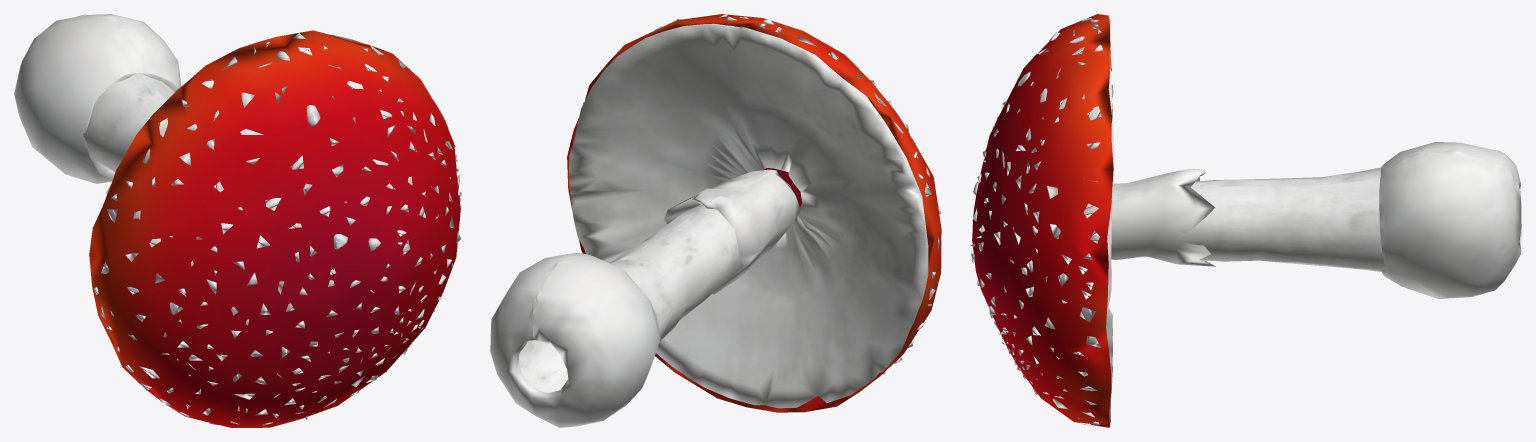
Rendered from mushroom.obj.
3 renders of one model, left to right at view 1: azimuth 30°, elevation 25°; view 2: azimuth 150°, elevation 25°; view 3: azimuth 270°, elevation 25°, orthographic.
Bounding box in the file's own units: 0.3004 × 0.3 × 0.4.
1 material, 1 textured.
